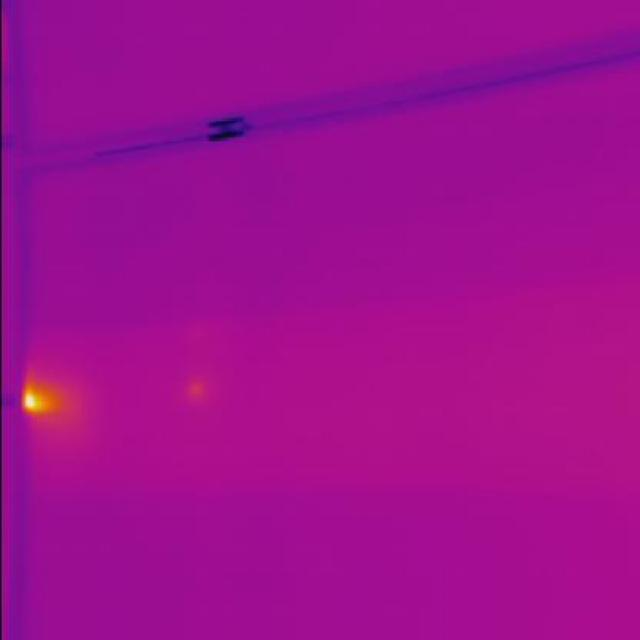hotspot: (17, 376, 69, 430)
